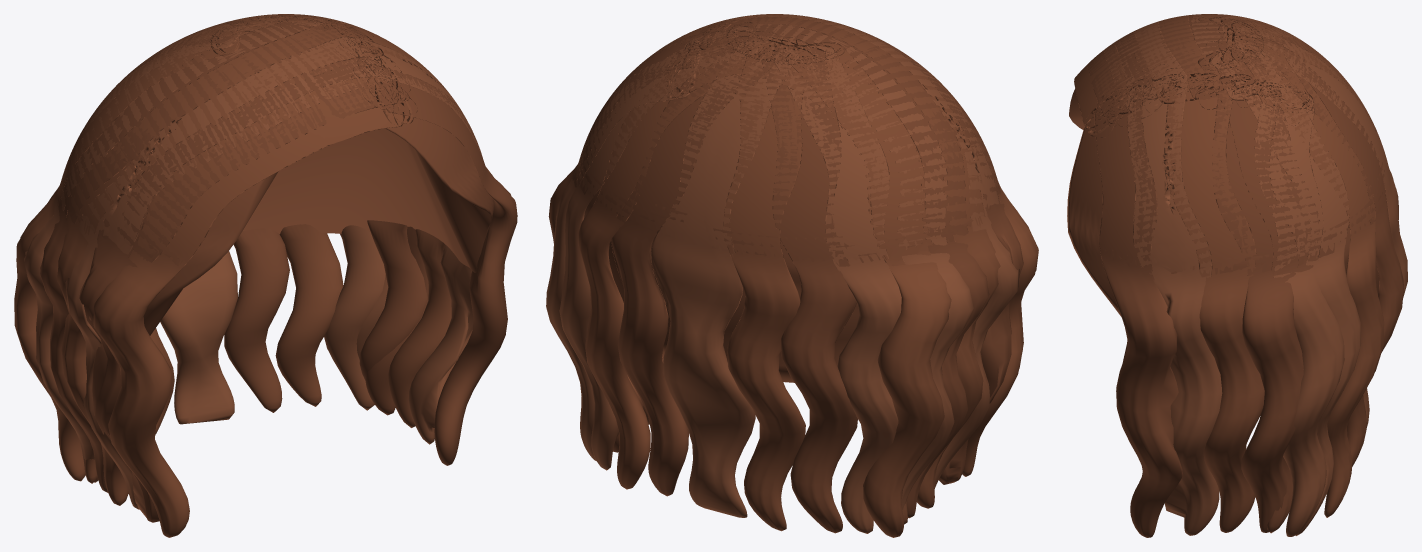
The model's file is Feminine-curls-closed-hair.glb.
3 renders of one model, left to right at view 1: azimuth 30°, elevation 25°; view 2: azimuth 150°, elevation 25°; view 3: azimuth 270°, elevation 25°, orthographic. The views are drawn at different scales.
Visible parts, largest first — view 1: 226 hair / Hair / sculpted 0.002, 226 hair / Hair / sculpted 1.004, 226 hair / Hair / sculpted 2.002, 226 hair / Hair / sculpted 1.003; view 2: 226 hair / Hair / sculpted 2.002, 226 hair / Hair / sculpted 0.002, 226 hair / Hair / sculpted 1.004, 226 hair / Hair / sculpted 1.003; view 3: 226 hair / Hair / sculpted 1.004, 226 hair / Hair / sculpted 2.002, 226 hair / Hair / sculpted 0.002, 226 hair / Hair / sculpted 1.003.
Boxes of the visible parts, box(x1,y1,x2,y2) form: 226 hair / Hair / sculpted 0.002: box(14, 14, 451, 537); 226 hair / Hair / sculpted 1.004: box(40, 14, 517, 522); 226 hair / Hair / sculpted 2.002: box(24, 14, 493, 509); 226 hair / Hair / sculpted 1.003: box(61, 117, 494, 335); 226 hair / Hair / sculpted 2.002: box(546, 14, 1019, 533); 226 hair / Hair / sculpted 0.002: box(578, 14, 1038, 537); 226 hair / Hair / sculpted 1.004: box(548, 14, 1023, 533); 226 hair / Hair / sculpted 1.003: box(576, 109, 999, 382); 226 hair / Hair / sculpted 1.004: box(1087, 14, 1403, 537); 226 hair / Hair / sculpted 2.002: box(1104, 14, 1407, 536); 226 hair / Hair / sculpted 0.002: box(1074, 14, 1393, 532); 226 hair / Hair / sculpted 1.003: box(1067, 88, 1388, 316).
Size of the model in its own units: 1.09 by 1.08 by 0.7673.
